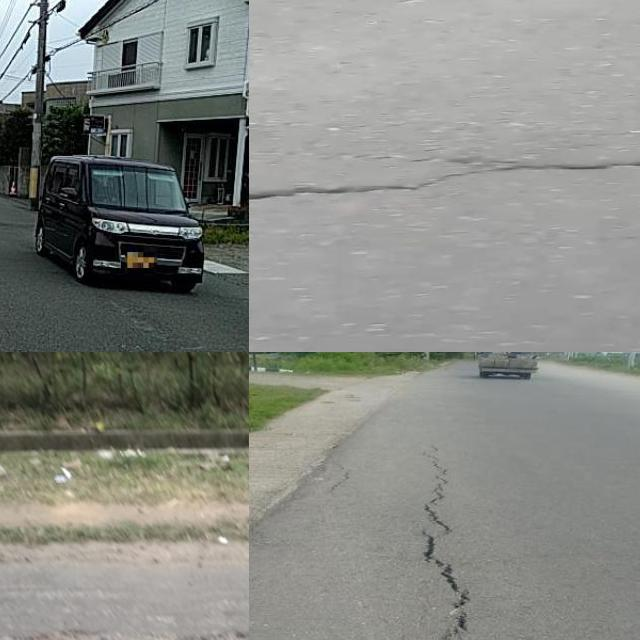Melintang: (249, 153, 640, 215)
Memanjang: (416, 435, 480, 640)
